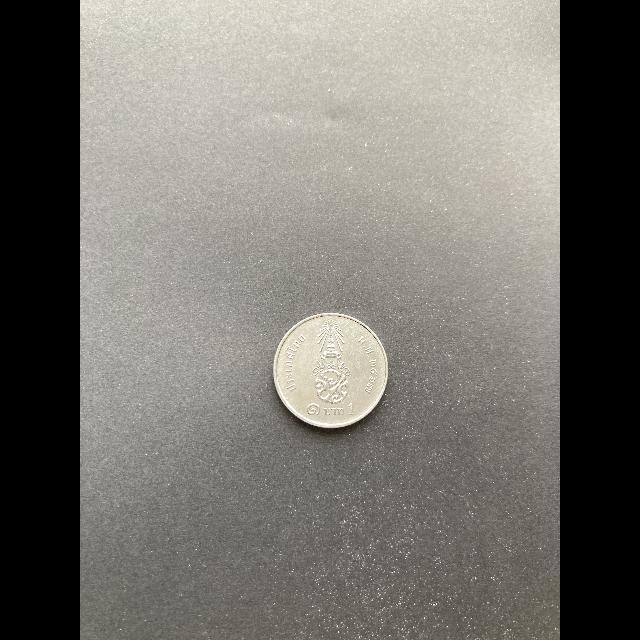1 Bath: (271, 310, 393, 434)
